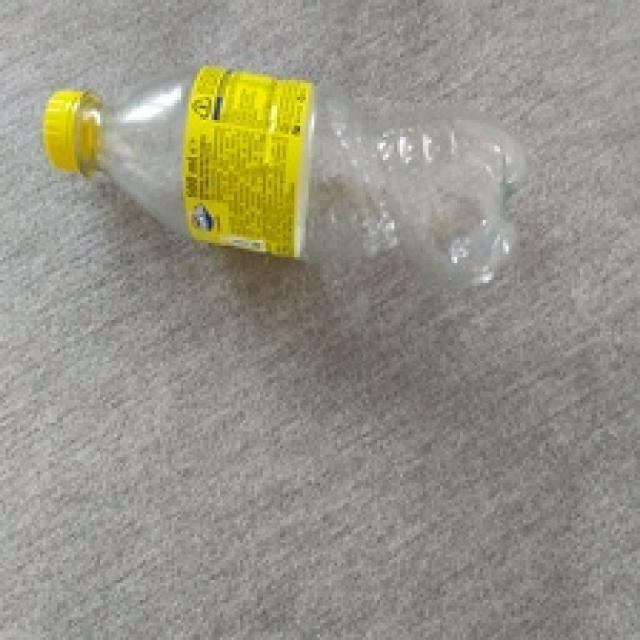bottle: (42, 66, 529, 283)
